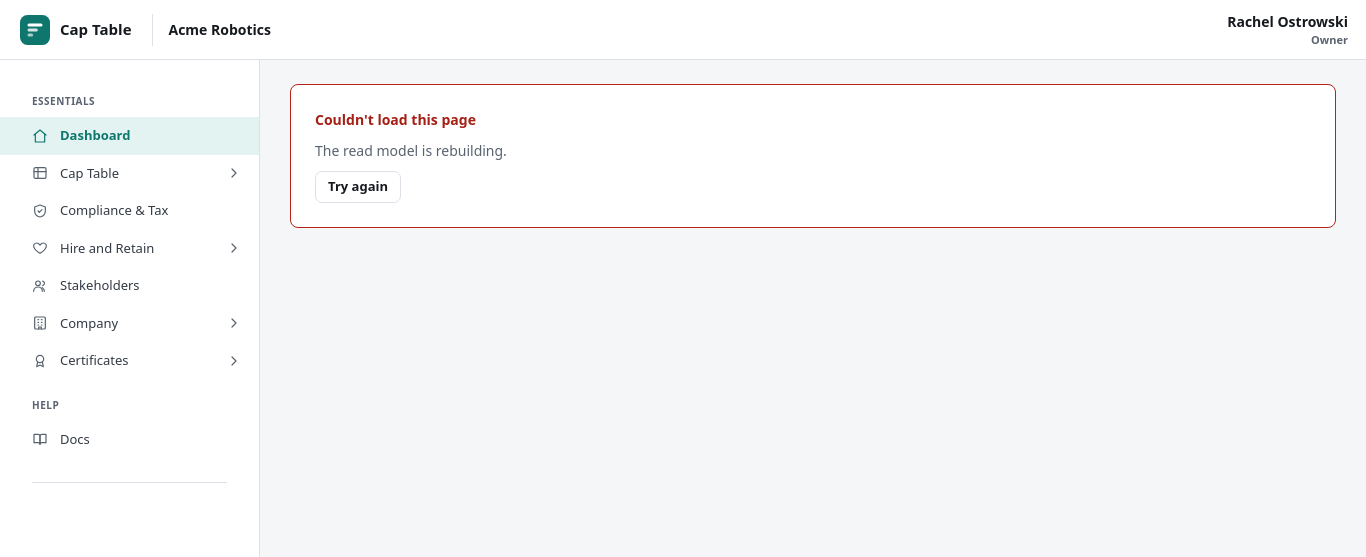
Test case: the shell's write access › shows the error with Try again, and no page, when the org record can't be read
Expected: the text "Couldn't load this page" is shown, [315,110,476,129]
Expected: the list "Needs attention" is not shown
What coordinates should you click on to do the following:
click the button "Try again"
I would click on:
 (358, 187)
Its box is [315,171,401,203].
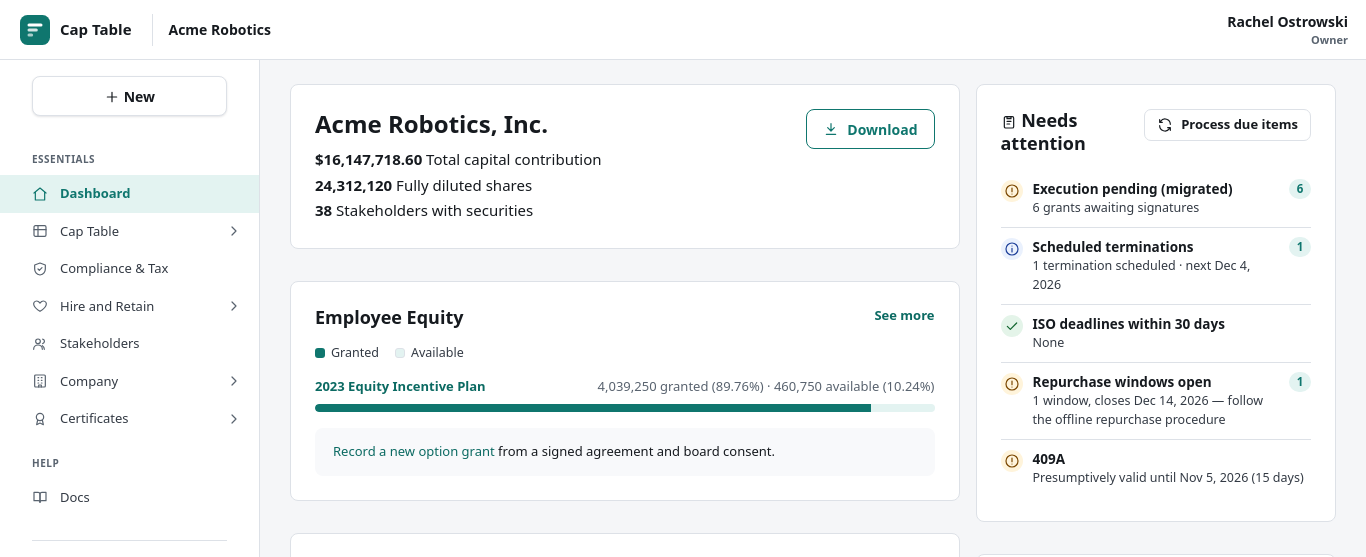
Result: the list named "Needs attention" is shown at [1000,170,1311,496]
